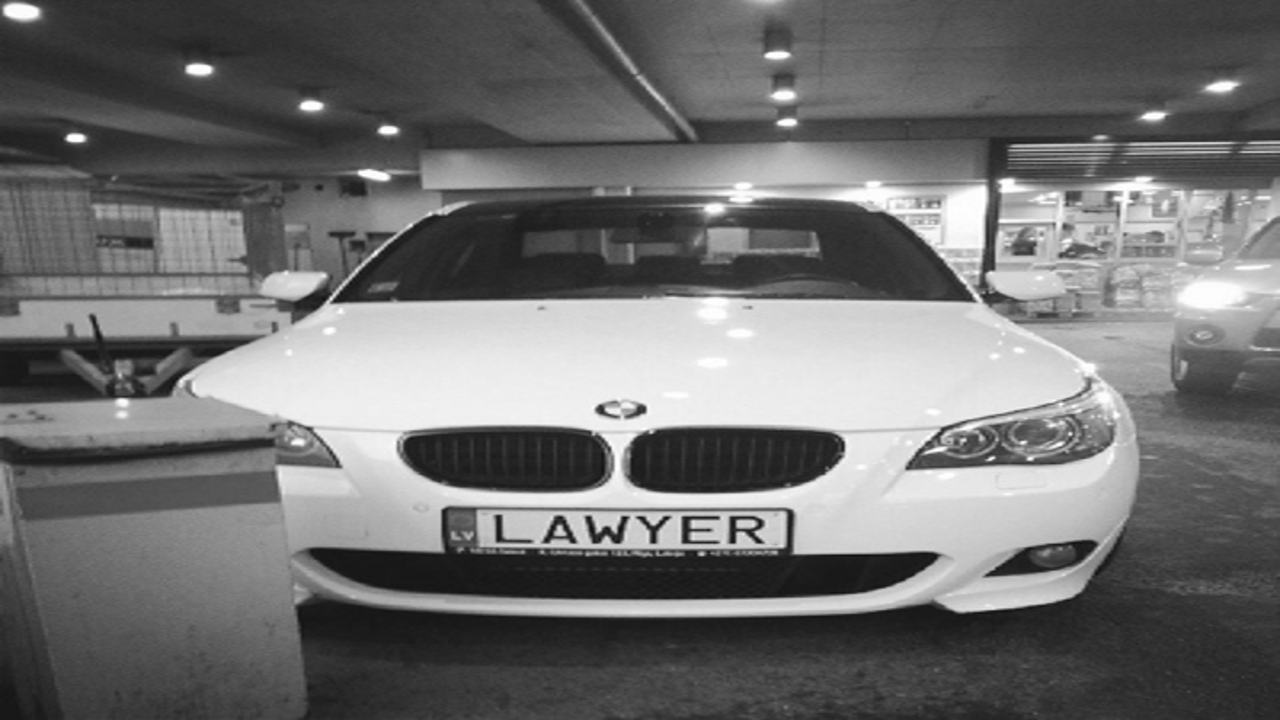license: (433, 497, 808, 562)
